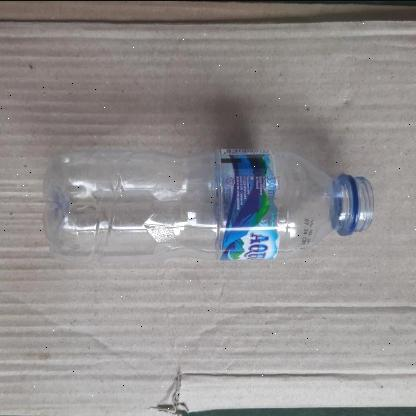Plastic Bottle: (41, 148, 379, 262)
